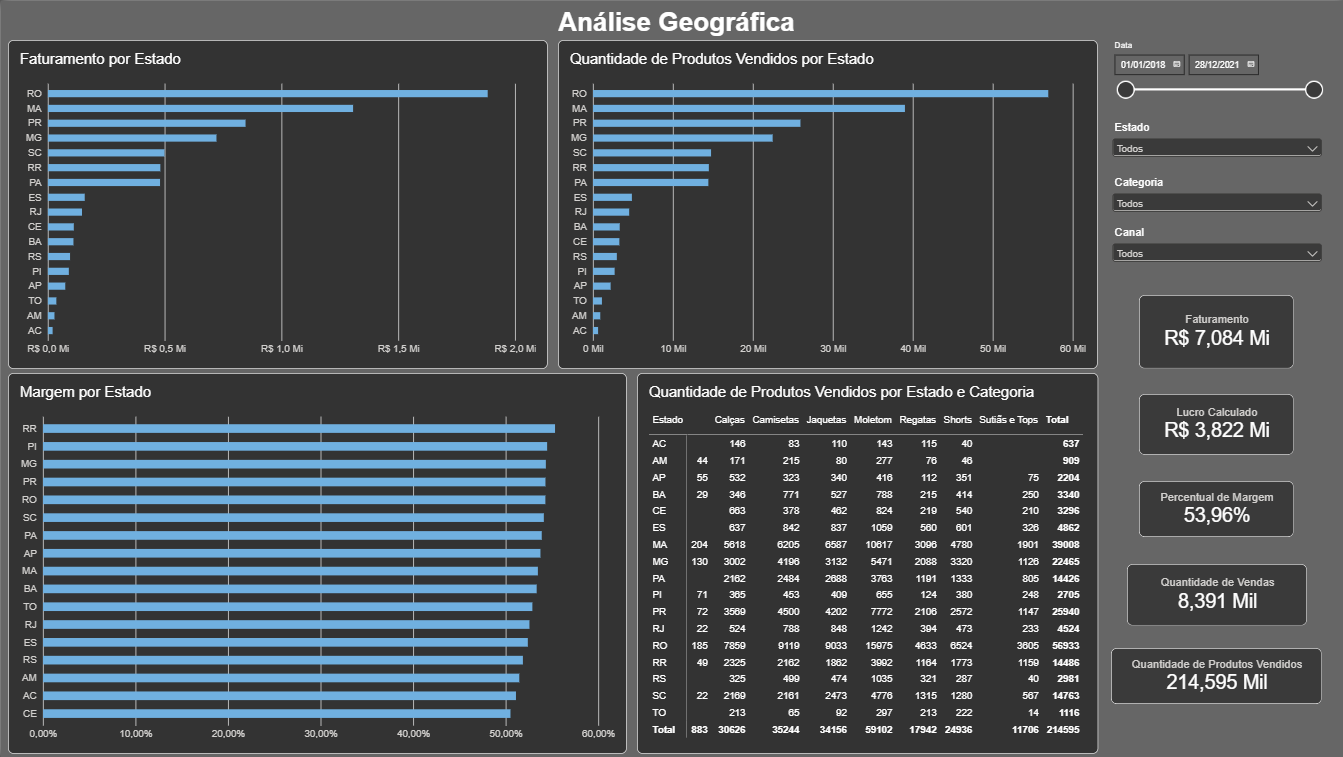

Layout of this report page (visuals, bound fields, positions):
{"tool":"powerbi","page":{"name":"Análise Geográfica","canvas":[1920,1080],"ordinal":2},"visuals":[{"type":"textbox","box":[10,8.6,1910,58.6],"z":0},{"type":"cardVisual","fields":{"Data":["Vendas.Faturamento"]},"box":[1625.7,420,221.4,105.7],"z":1000},{"type":"cardVisual","fields":{"Data":["Vendas.Quantidade de Vendas"]},"box":[1608.6,804.3,257.1,88.6],"z":2000},{"type":"cardVisual","fields":{"Data":["Vendas.Quantidade de Produtos Vendidos"]},"box":[1585.7,924.3,301.4,80],"z":3000},{"type":"cardVisual","fields":{"Data":["Vendas.Lucro Calc"]},"box":[1625.7,561.4,221.4,87.1],"z":4000},{"type":"cardVisual","fields":{"Data":["Vendas.% Margem"]},"box":[1625.7,685.7,221.4,80],"z":5000},{"type":"slicer","fields":{"Values":["Calendário.Date"]},"box":[1582.9,55.7,308.6,102.9],"z":6000},{"type":"slicer","fields":{"Values":["Lojas.Estado"]},"box":[1582.9,171.4,308.6,78.6],"z":7000},{"type":"slicer","fields":{"Values":["Lojas.Loja_canal"]},"box":[1582.9,321.4,308.6,71.4],"z":8000},{"type":"slicer","fields":{"Values":["Produtos.Produto_Categoria"]},"box":[1582.9,250,308.6,71.4],"z":9000},{"type":"barChart","title":"Faturamento por Estado","fields":{"Category":["Lojas.Estado"],"Y":["Vendas.Faturamento"]},"box":[10,55.7,771.4,470],"z":10000},{"type":"barChart","fields":{"Category":["Lojas.Estado"],"Y":["Vendas.Quantidade de Produtos Vendidos"]},"box":[795.7,55.7,771.4,470],"z":11000},{"type":"pivotTable","title":"Quantidade de Produtos Vendidos por Estado e Categoria","fields":{"Columns":["Produtos.Produto_Categoria"],"Rows":["Lojas.Estado"],"Values":["Vendas.Quantidade de Produtos Vendidos"]},"box":[908.6,531.4,658.6,544.3],"z":12000},{"type":"barChart","title":"Margem por Estado","fields":{"Category":["Lojas.Estado"],"Y":["Vendas.% Margem"]},"box":[10,531.4,884.3,544.3],"z":13000}]}

Visuals, with their boxes in screenshot pixels (x1, y1, x2, y2), scaled from the page's 1920x1080 canvas onto the 1343x757 screenshot:
textbox: 7/6/1342/47
cardVisual - Vendas.Faturamento: 1137/294/1292/368
cardVisual - Vendas.Quantidade de Vendas: 1125/564/1305/626
cardVisual - Vendas.Quantidade de Produtos Vendidos: 1109/648/1320/704
cardVisual - Vendas.Lucro Calc: 1137/393/1292/455
cardVisual - Vendas.% Margem: 1137/481/1292/537
slicer - Calendário.Date: 1107/39/1323/111
slicer - Lojas.Estado: 1107/120/1323/175
slicer - Lojas.Loja_canal: 1107/225/1323/275
slicer - Produtos.Produto_Categoria: 1107/175/1323/225
"Faturamento por Estado" barChart: 7/39/547/368
barChart - Lojas.Estado x Vendas.Quantidade de Produtos Vendidos: 557/39/1096/368
"Quantidade de Produtos Vendidos por Estado e Categoria" pivotTable: 636/372/1096/754
"Margem por Estado" barChart: 7/372/626/754
